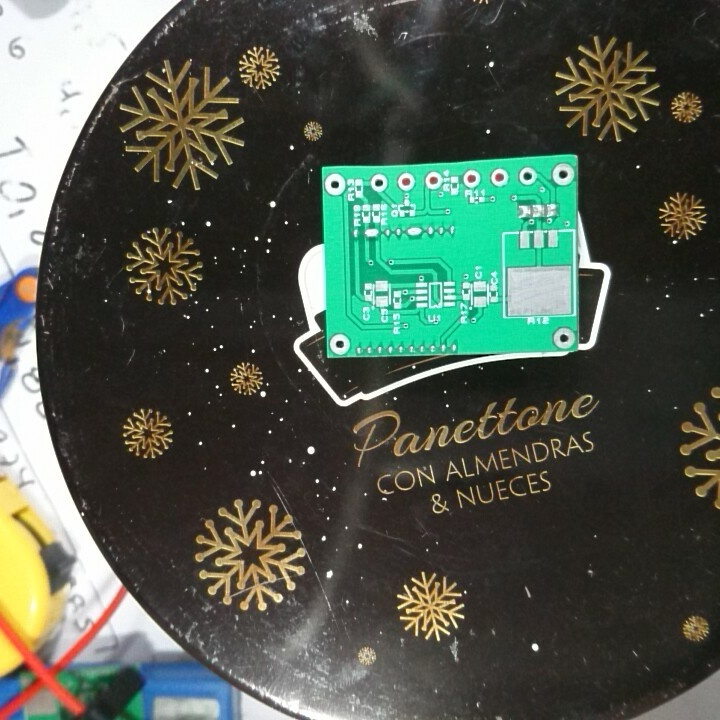F: (549, 325, 578, 351), (323, 171, 348, 196), (549, 162, 575, 186), (327, 333, 351, 356), (461, 168, 484, 189), (517, 165, 538, 186), (489, 167, 510, 188), (369, 172, 390, 192), (422, 170, 442, 190), (396, 171, 416, 191)
P: (405, 223, 424, 240), (363, 227, 380, 240)
